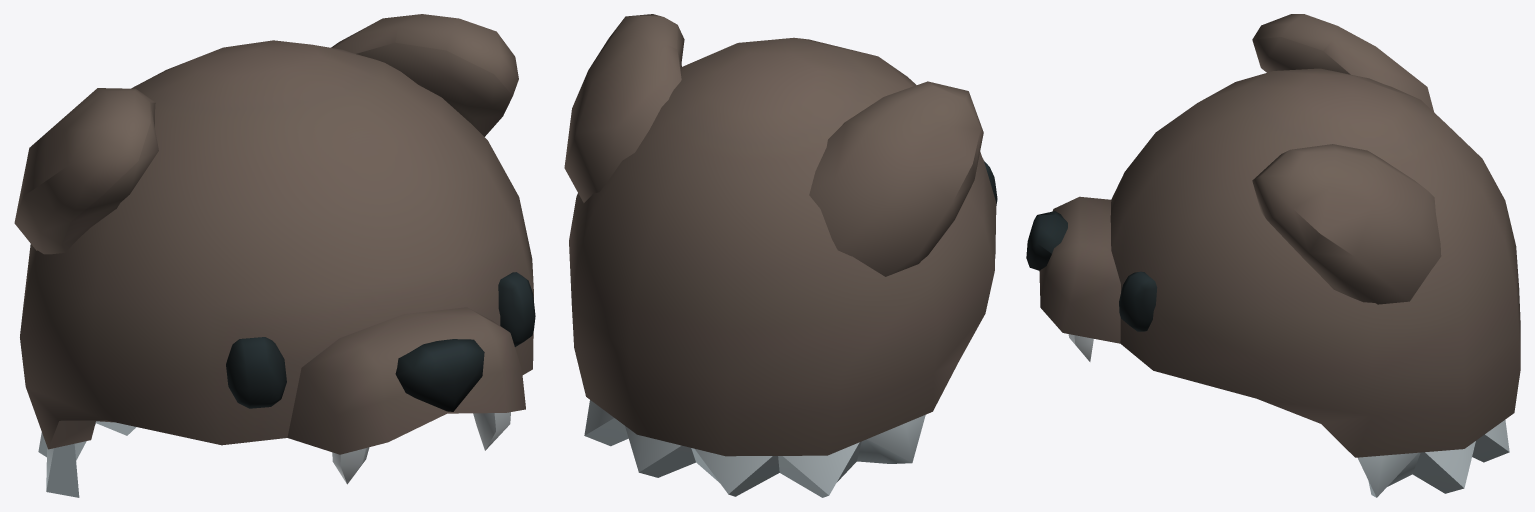
Rendered from kk-Barbarian_Hat.glb.
3 views of the same model, side by side, from view 1: azimuth 30°, elevation 25°; view 2: azimuth 150°, elevation 25°; view 3: azimuth 270°, elevation 25° (orthographic). The views are drawn at different scales.
Visible parts, largest first — view 1: Barbarian_Hat; view 2: Barbarian_Hat; view 3: Barbarian_Hat.
Part boxes in pixels (box(x1,y1,x2,y2)): Barbarian_Hat: box(14, 14, 535, 497); Barbarian_Hat: box(564, 14, 997, 497); Barbarian_Hat: box(1026, 14, 1520, 497).
Size of the model in its own units: 1.11 by 1.02 by 1.26.
Materials: 1 (1 with a texture image).
